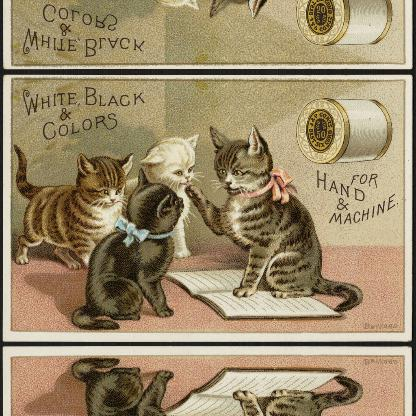Cat: (188, 126, 362, 310), (70, 167, 184, 329), (12, 144, 134, 268), (124, 134, 204, 258), (187, 376, 363, 415), (70, 358, 185, 415)
